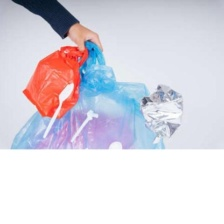plastic_bag: (8, 33, 182, 150), (20, 41, 91, 121)
